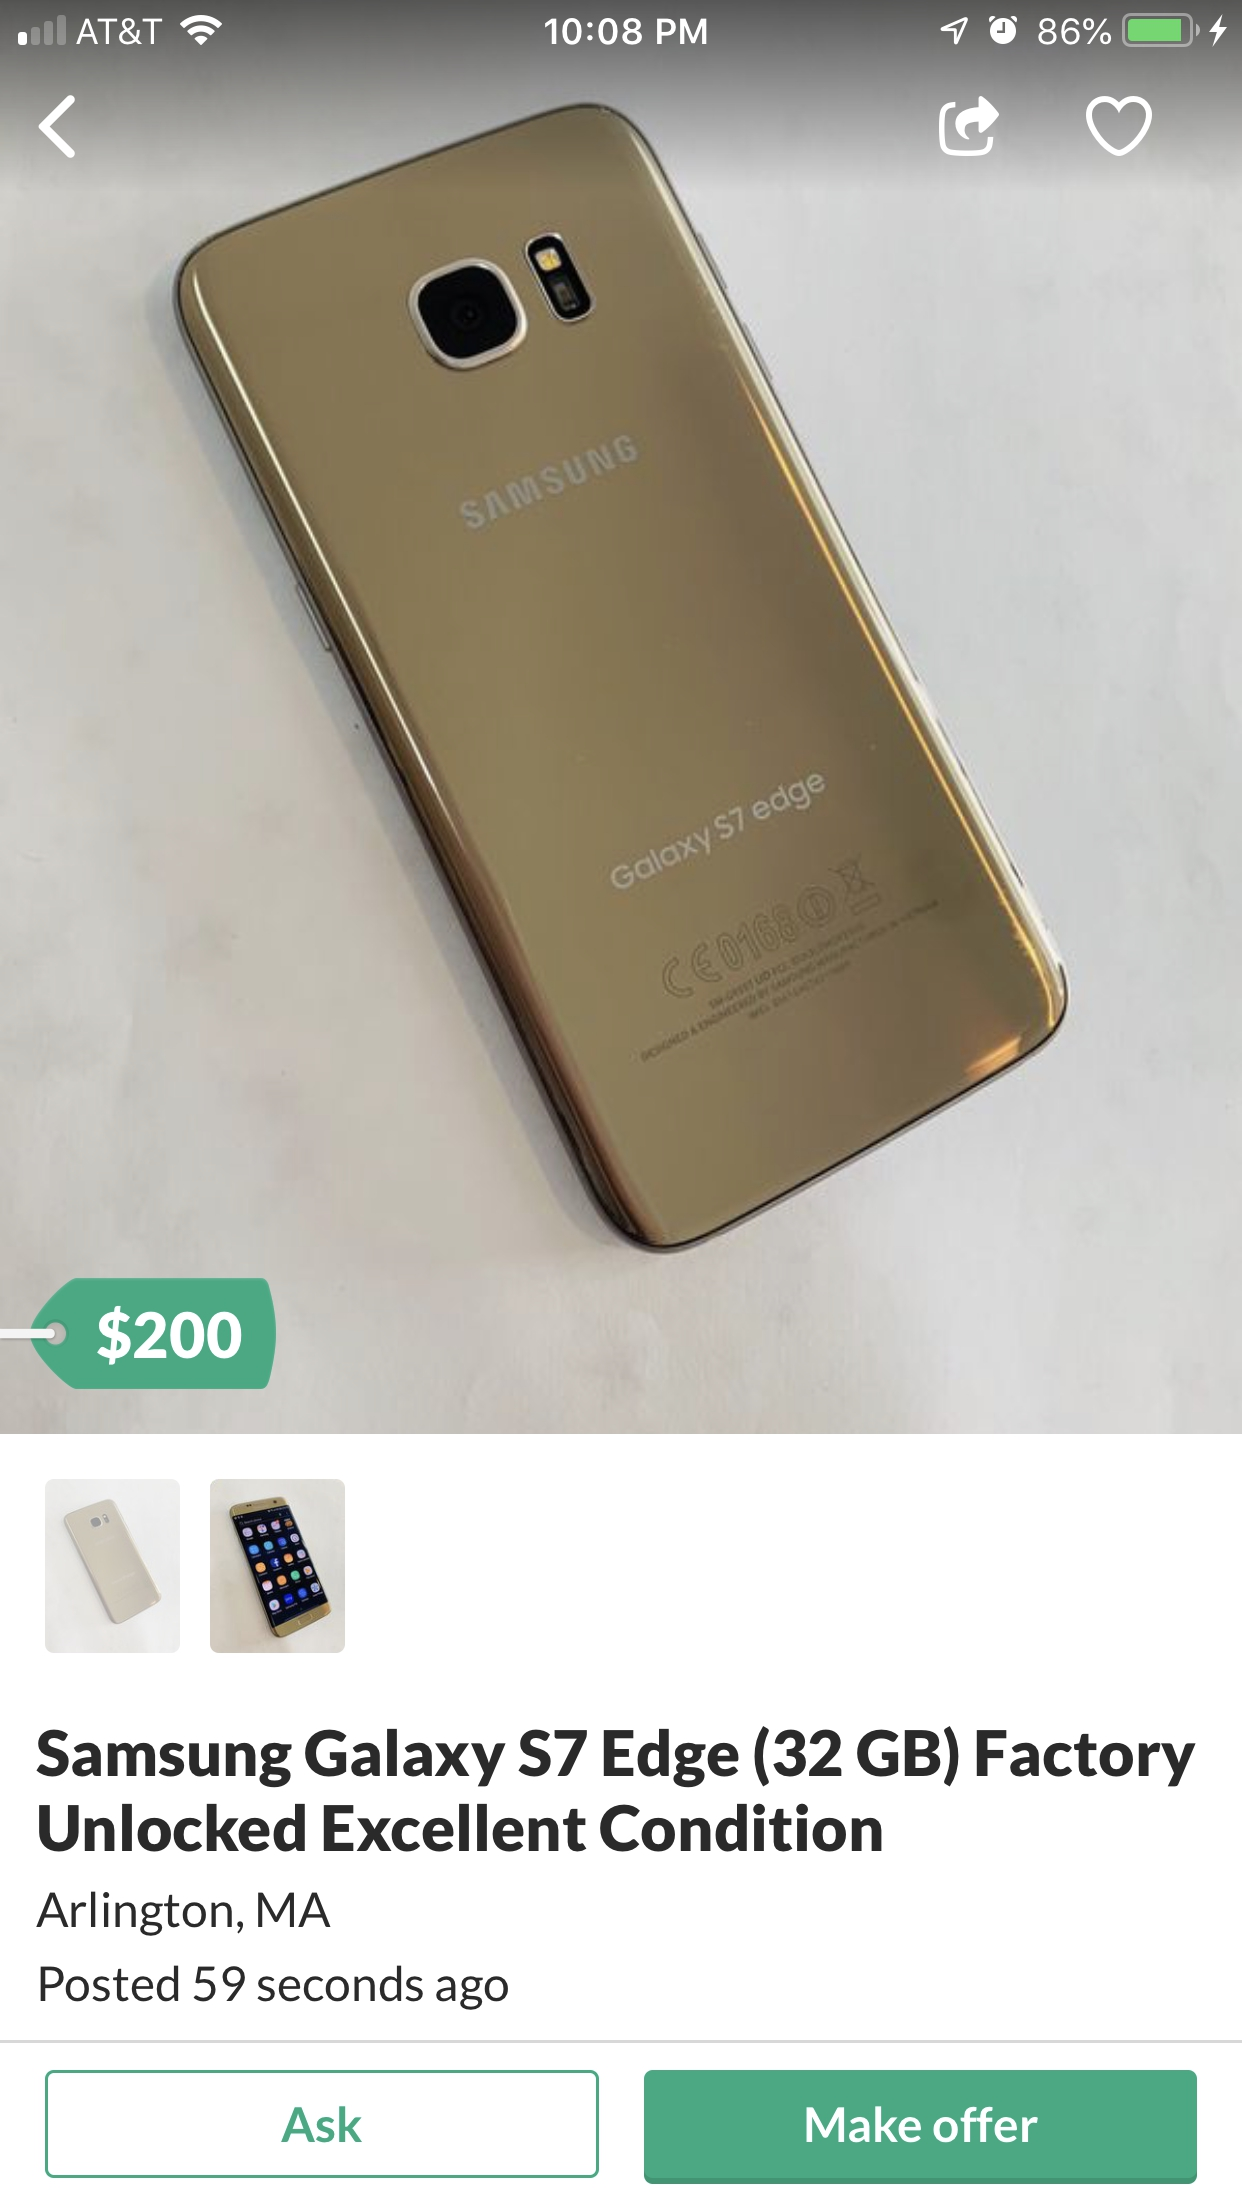Icon: (1086, 96, 1153, 158), (939, 96, 999, 158), (39, 97, 77, 161)
Image: (2, 2, 1242, 1435), (209, 1479, 347, 1654), (45, 1479, 182, 1654)
Text: (36, 1726, 1197, 1853), (39, 1962, 510, 2011), (36, 1890, 334, 1937)
TextButton: (645, 2070, 1198, 2185), (45, 2070, 601, 2179)
UpperTaskBar: (2, 2, 1242, 49)
